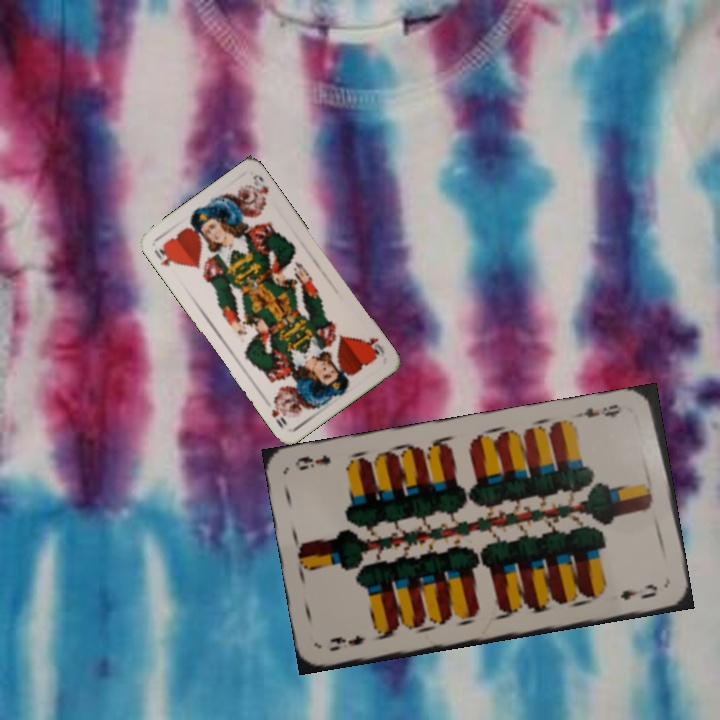E9: (325, 631, 369, 654), (575, 400, 625, 420)
HO: (150, 241, 180, 269), (359, 333, 387, 361)
